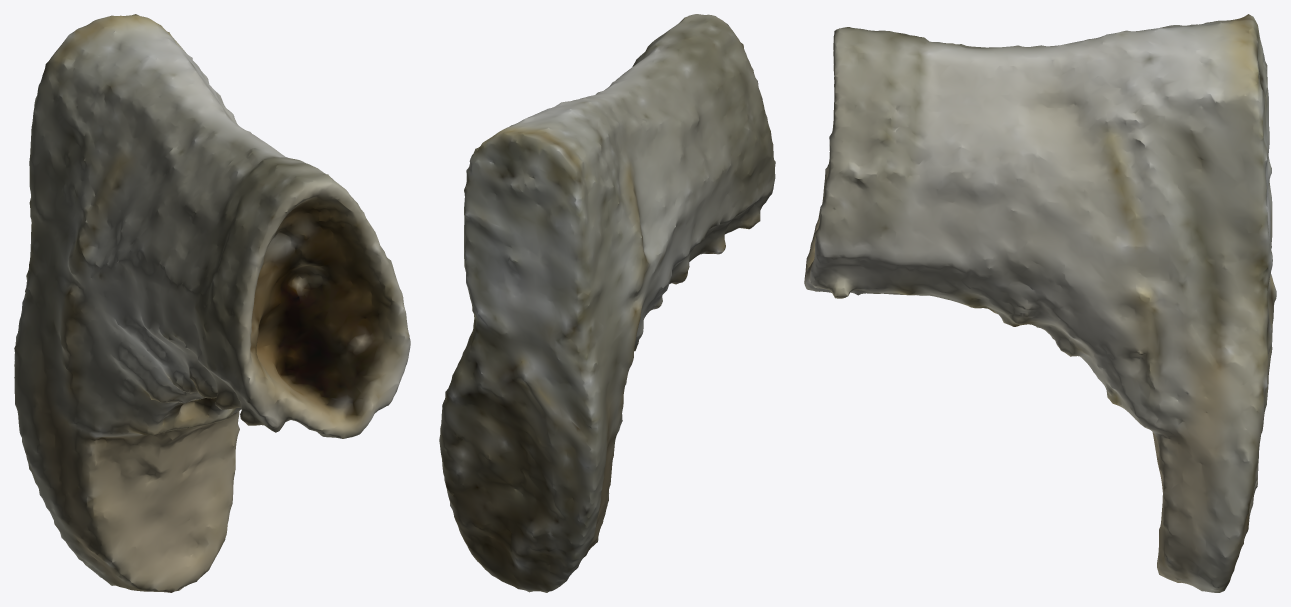
The model's file is shoe1.glb.
The picture shows the model from 3 angles, left to right: view 1: azimuth 30°, elevation 25°; view 2: azimuth 150°, elevation 25°; view 3: azimuth 270°, elevation 25°; orthographic projection. The views are drawn at different scales.
Bounding box in the file's own units: 0.367 × 0.9948 × 0.7785.
